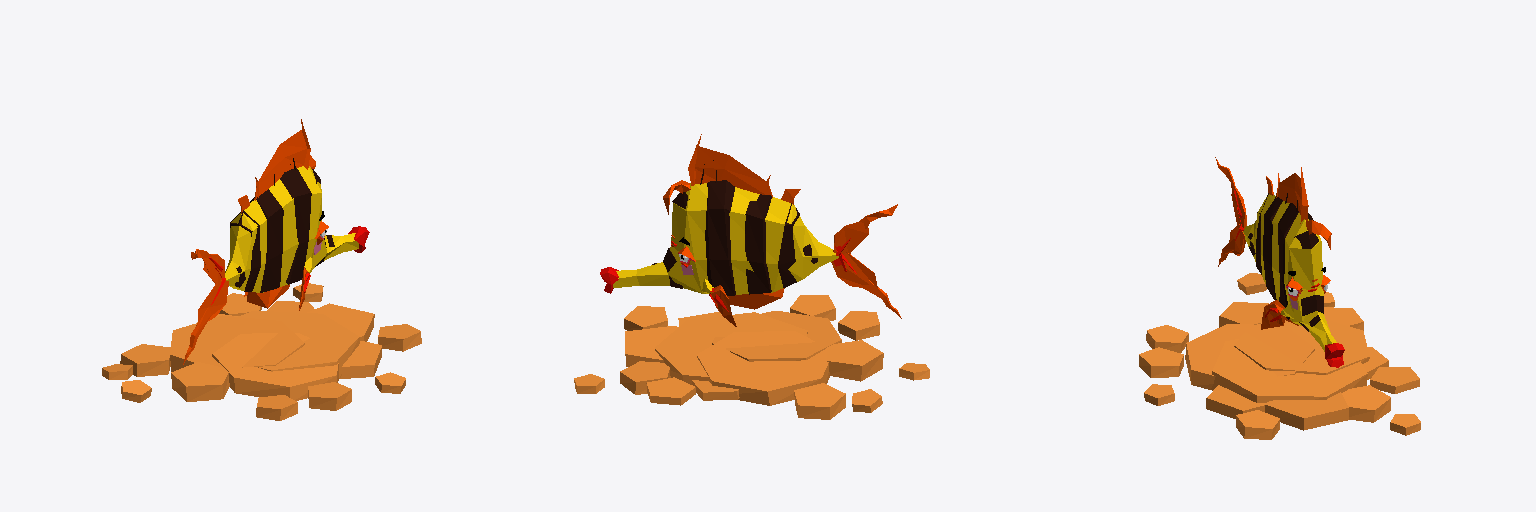
3 views of the same model, side by side, from view 1: azimuth 30°, elevation 25°; view 2: azimuth 150°, elevation 25°; view 3: azimuth 270°, elevation 25° (orthographic).
Visible parts, largest first — view 1: group[number redacted], group[number redacted]; view 2: group[number redacted], group[number redacted]; view 3: group[number redacted], group[number redacted].
Part boxes in pixels (bbox=[...]): group[number redacted]: bbox=[102, 283, 421, 420]; group[number redacted]: bbox=[183, 119, 369, 364]; group[number redacted]: bbox=[574, 295, 929, 419]; group[number redacted]: bbox=[600, 134, 901, 326]; group[number redacted]: bbox=[1139, 273, 1420, 439]; group[number redacted]: bbox=[1215, 157, 1344, 367].
Bounding box in the file's own units: 1.3 × 0.9841 × 1.07.